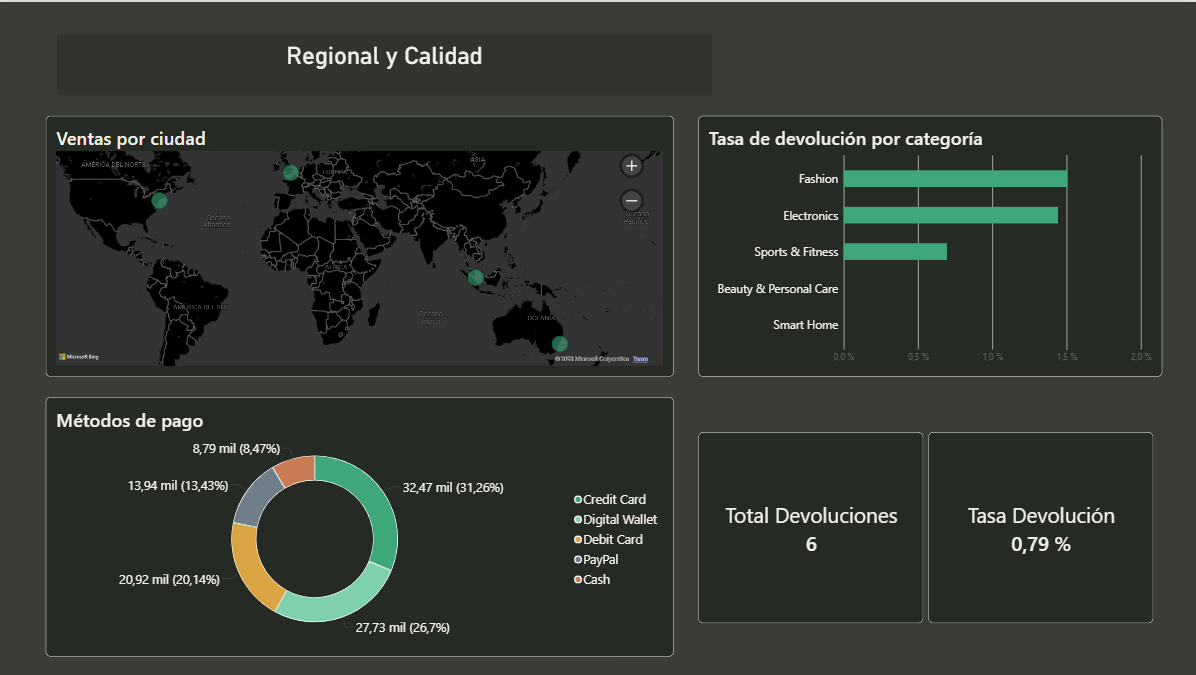

Layout of this report page (visuals, bound fields, positions):
{"tool":"powerbi","page":{"name":"Regional y Calidad","canvas":[1920,1080],"ordinal":2},"visuals":[{"type":"map","title":"Ventas por ciudad","fields":{"Category":["nexamart dimtienda.ciudad"]},"box":[77.5,182.5,1005,417.5],"z":0},{"type":"donutChart","title":"Métodos de pago","fields":{"Category":["nexamart dimmetodopago.nombre_metodo"],"Y":["Medidas.Ventas Totales"]},"box":[77.5,632.5,1005,415],"z":1000},{"type":"cardVisual","fields":{"Data":["Medidas.Total Devoluciones","Medidas.% Tasa Devolución"]},"box":[1122,688,728,306],"z":2000},{"type":"barChart","title":"Tasa de devolución por categoría","fields":{"Category":["nexamart dimproducto.categoria"],"Y":["Medidas.% Tasa Devolución"]},"box":[1122.5,182.5,742.5,417.5],"z":3000},{"type":"textbox","box":[95.9,52.5,1047.8,97.7],"z":4000}]}

Visuals, with their boxes in screenshot pixels (x1, y1, x2, y2), scaled from the page's 1920x1080 canvas onto the 1196x675 screenshot:
"Ventas por ciudad" map: <bbox>48, 114, 674, 375</bbox>
"Métodos de pago" donutChart: <bbox>48, 395, 674, 655</bbox>
cardVisual - Medidas.Total Devoluciones x Medidas.% Tasa Devolución: <bbox>699, 430, 1152, 621</bbox>
"Tasa de devolución por categoría" barChart: <bbox>699, 114, 1162, 375</bbox>
textbox: <bbox>60, 33, 712, 94</bbox>
